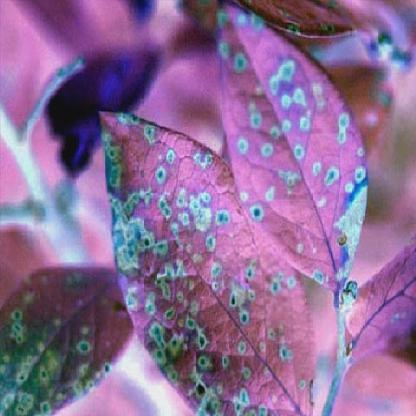Tomato Septoria leaf spot: (95, 106, 319, 413), (209, 6, 365, 324)
